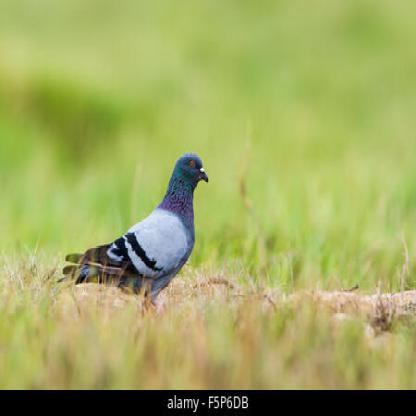Flying Rat: (45, 150, 210, 320)
